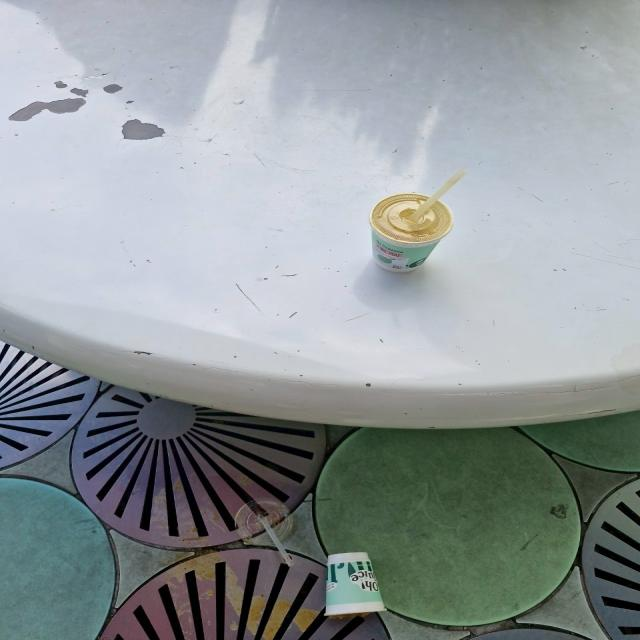plastic cup: (376, 169, 464, 273)
